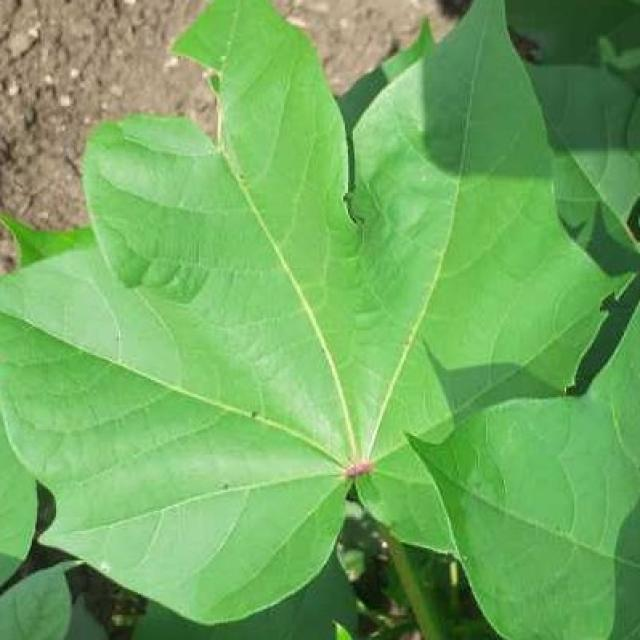Healthy Leaf: (101, 213, 619, 542)
